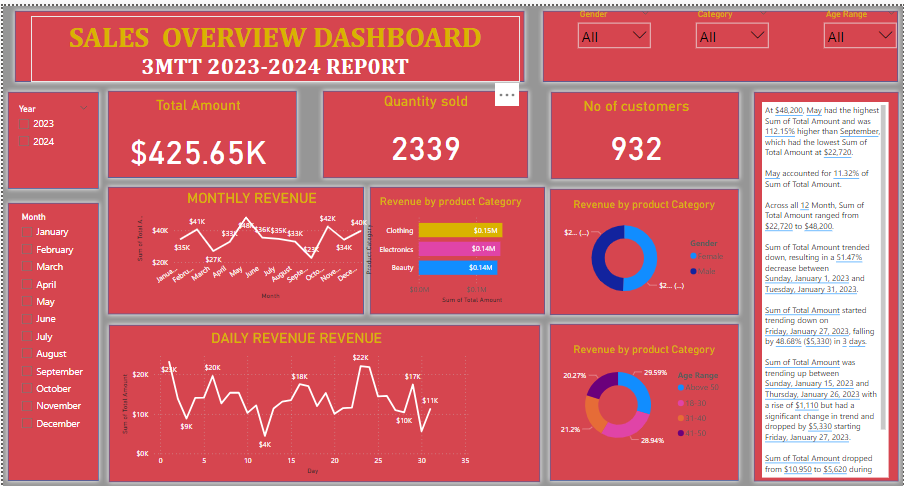

This screenshot's page, from the dashboard's own definition file:
{"tool":"powerbi","page":{"name":"Page 1","canvas":[1500,800],"ordinal":0},"visuals":[{"type":"shape","box":[167.3,132.7,330.6,161.2],"z":0},{"type":"shape","box":[0,134.7,167.3,177.6],"z":1000},{"type":"shape","box":[1242.9,134.7,257.1,665.3],"z":2000},{"type":"shape","box":[167.3,293.9,442.9,228.6],"z":3000},{"type":"shape","box":[904.1,295.9,330.6,226.5],"z":4000},{"type":"shape","box":[604.1,293.9,308.2,228.6],"z":5000},{"type":"shape","box":[168.3,523.3,735,278.3],"z":6000},{"type":"shape","box":[904.1,522.4,330.6,277.6],"z":7000},{"type":"shape","box":[12.2,0,865.3,134.7],"z":8000},{"type":"shape","box":[891.8,0,608.2,134.7],"z":9000},{"type":"card","title":"Total Amount","fields":{"Values":["Sum(3MTT Dashboard.Total Amount)"]},"box":[181.6,151,287.8,142.9],"z":10000},{"type":"shape","box":[525,133.3,358.3,161.7],"z":11000},{"type":"shape","box":[905,135,330,161.7],"z":12000},{"type":"shape","box":[0,320.4,167.3,479.6],"z":13000},{"type":"card","title":"Quantity sold","fields":{"Values":["Sum(3MTT Dashboard.Quantity)"]},"box":[561.7,145,286.7,143.3],"z":14000},{"type":"card","title":"No of customers","fields":{"Values":["CountNonNull(3MTT Dashboard.Customer ID)"]},"box":[912.2,153.1,287.8,126.5],"z":15000},{"type":"lineChart","title":"MONTHLY REVENUE","fields":{"Y":["Sum(3MTT Dashboard.Total Amount)"],"Category":["3MTT Dashboard.Date.Variation.Date Hierarchy.Month"]},"box":[218.2,306.8,393.2,186.4],"z":16000},{"type":"clusteredBarChart","title":"Revenue by product Category","fields":{"Category":["3MTT Dashboard.Product Category"],"Y":["Sum(3MTT Dashboard.Total Amount)"]},"box":[600,315.1,292.5,184.9],"z":17000},{"type":"donutChart","title":"Revenue by product Category","fields":{"Category":["3MTT Dashboard.Gender"],"Y":["Sum(3MTT Dashboard.Total Amount)"]},"box":[922.4,320.4,293.9,179.6],"z":18000},{"type":"donutChart","title":"Revenue by product Category","fields":{"Category":["3MTT Dashboard.Age Range"],"Y":["Sum(3MTT Dashboard.Total Amount)"]},"box":[922.4,561.2,293.9,185.7],"z":19000},{"type":"lineChart","title":"DAILY REVENUE REVENUE","fields":{"Y":["Sum(3MTT Dashboard.Total Amount)"],"Category":["3MTT Dashboard.Date.Variation.Date Hierarchy.Day"]},"box":[193.9,540.8,591.8,244.9],"z":20000},{"type":"slicer","fields":{"Values":["3MTT Dashboard.Date.Variation.Date Hierarchy.Month"]},"box":[18.9,337.7,139.6,449.1],"z":21000},{"type":"slicer","fields":{"Values":["3MTT Dashboard.Date.Variation.Date Hierarchy.Year"]},"box":[13.2,158.5,139.6,126.4],"z":22000},{"type":"textbox","box":[1265.7,160,211.4,625.7],"z":23000},{"type":"slicer","fields":{"Values":["3MTT Dashboard.Gender"]},"box":[949,0,140.8,126.5],"z":24000},{"type":"slicer","fields":{"Values":["3MTT Dashboard.Product Category"]},"box":[1144.9,0,140.8,126.5],"z":25000},{"type":"slicer","fields":{"Values":["3MTT Dashboard.Age Range"]},"box":[1359.1,0,140.9,127.3],"z":26000},{"type":"textbox","box":[46.9,16.3,814.3,110.2],"z":27000}]}

Visuals, with their boxes in screenshot pixels (x1, y1, x2, y2), scaled from the page's 1500x800 canvas onto the 904x486 screenshot:
shape: (101,81,300,179)
shape: (0,82,101,190)
shape: (749,82,903,485)
shape: (101,179,368,317)
shape: (545,180,744,317)
shape: (364,179,550,317)
shape: (101,318,544,485)
shape: (545,317,744,485)
shape: (7,0,529,82)
shape: (537,0,903,82)
"Total Amount" card: (109,92,283,179)
shape: (316,81,532,179)
shape: (545,82,744,180)
shape: (0,195,101,485)
"Quantity sold" card: (339,88,511,175)
"No of customers" card: (550,93,723,170)
"MONTHLY REVENUE" lineChart: (132,186,368,300)
"Revenue by product Category" clusteredBarChart: (362,191,538,304)
"Revenue by product Category" donutChart: (556,195,733,304)
"Revenue by product Category" donutChart: (556,341,733,454)
"DAILY REVENUE REVENUE" lineChart: (117,329,474,477)
slicer - 3MTT Dashboard.Date.Variation.Date Hierarchy.Month: (11,205,96,478)
slicer - 3MTT Dashboard.Date.Variation.Date Hierarchy.Year: (8,96,92,173)
textbox: (763,97,890,477)
slicer - 3MTT Dashboard.Gender: (572,0,657,77)
slicer - 3MTT Dashboard.Product Category: (690,0,775,77)
slicer - 3MTT Dashboard.Age Range: (819,0,903,77)
textbox: (28,10,519,77)
